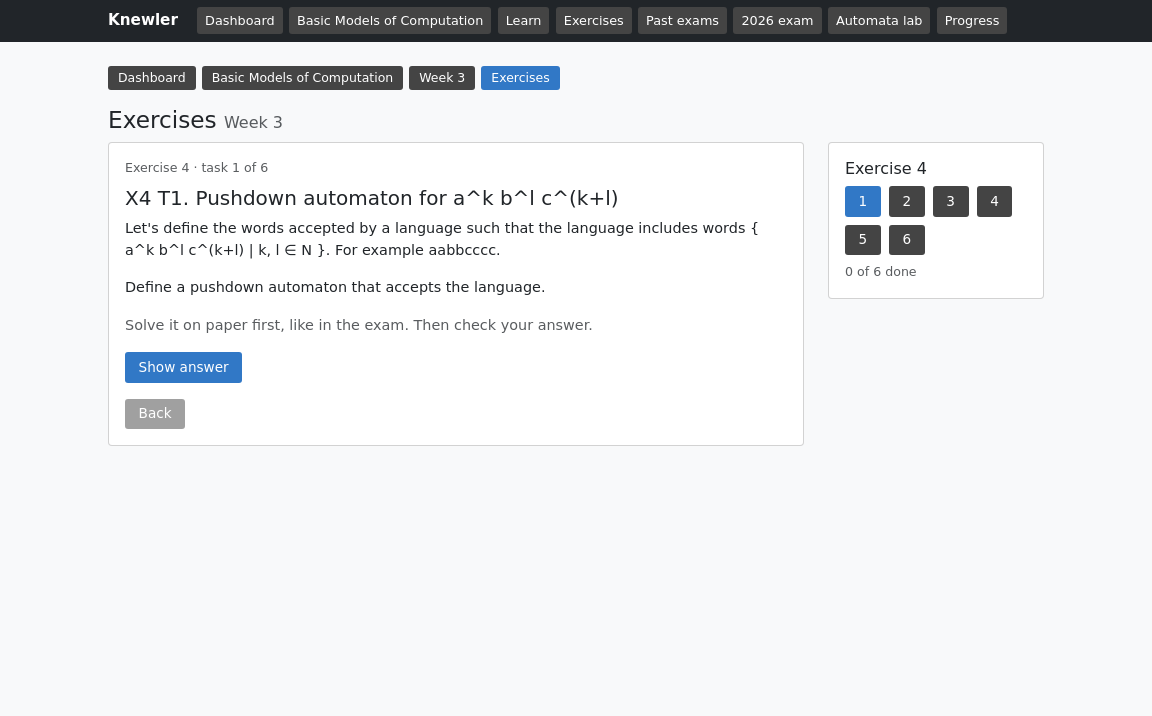
Test: Groups 3 and 4: pushdown automata, context-sensitive grammars and Turing machines › shows the PDA answer of exercise 4 task 1 and the parse trees of task 6 in their own layout
This screenshot has width=1152, height=716.
Click the button "Show answer".
click(184, 368)  # box 125,352 -> 242,383
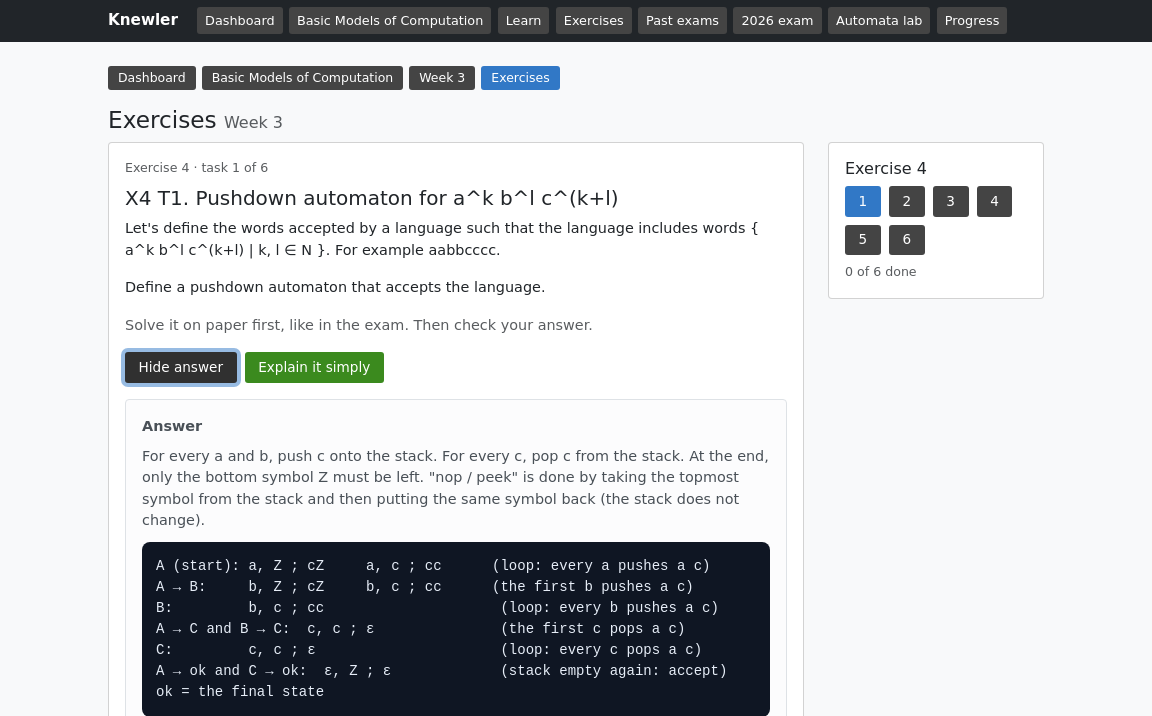
Result: the element "Answer" shows "A → B: b, Z ; cZ" at 156,558 -> 727,700
Click the button named "Exercise 4, task 6".
click(907, 240)  # box 889,225 -> 925,255
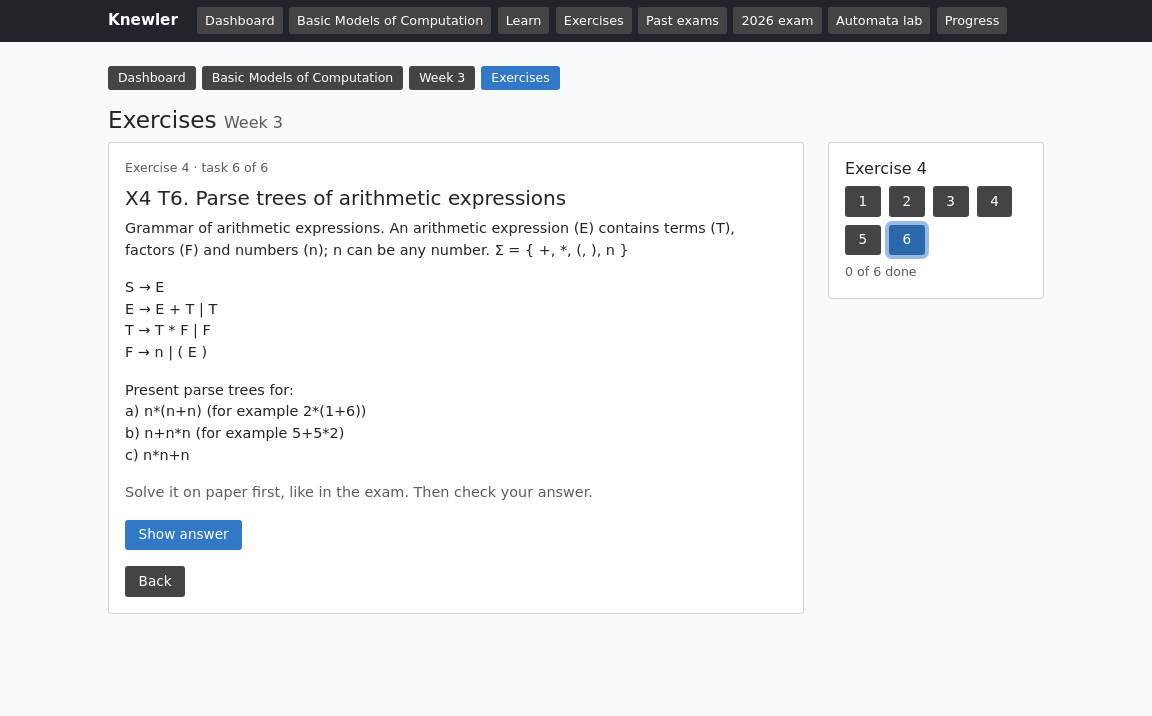
Click the button "Show answer".
click(184, 535)  # box 125,520 -> 242,550
(page scrolled)
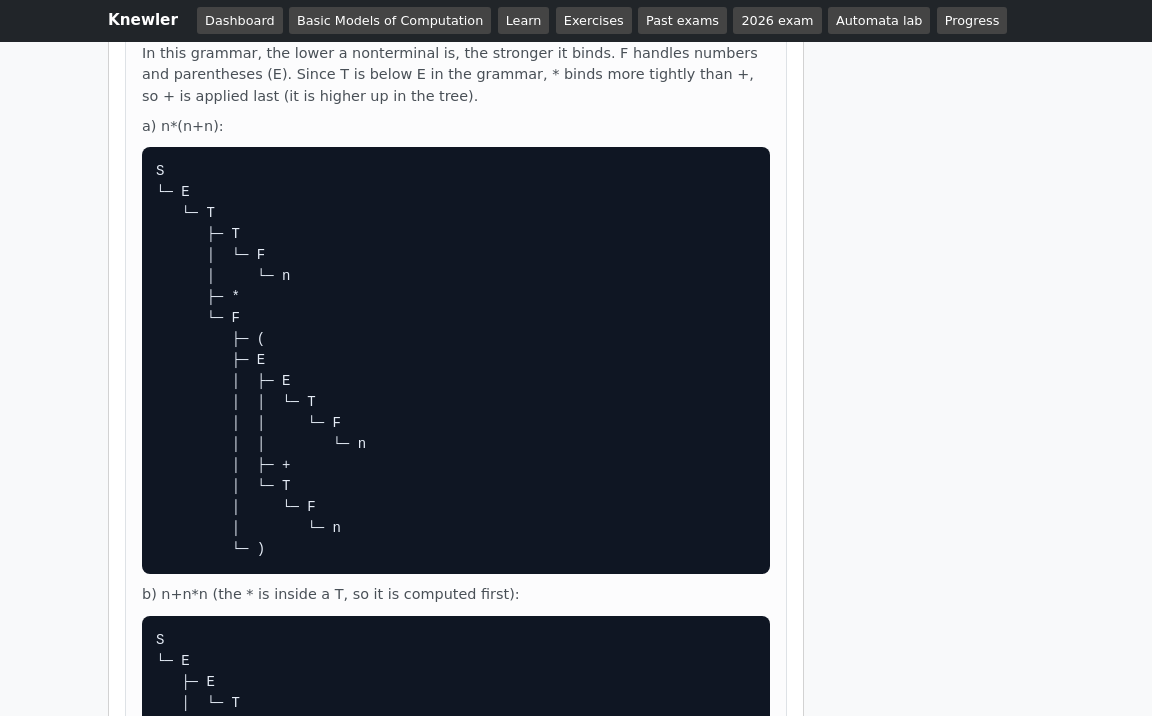
Result: the element "Answer" shows "n*(n+n)" at 142,118 -> 224,134
Result: the text "└─" is shown at 156,163 -> 366,557
